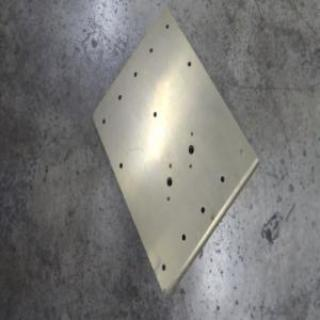MetalSheettrack_idkeyframe: (90, 6, 259, 299)
